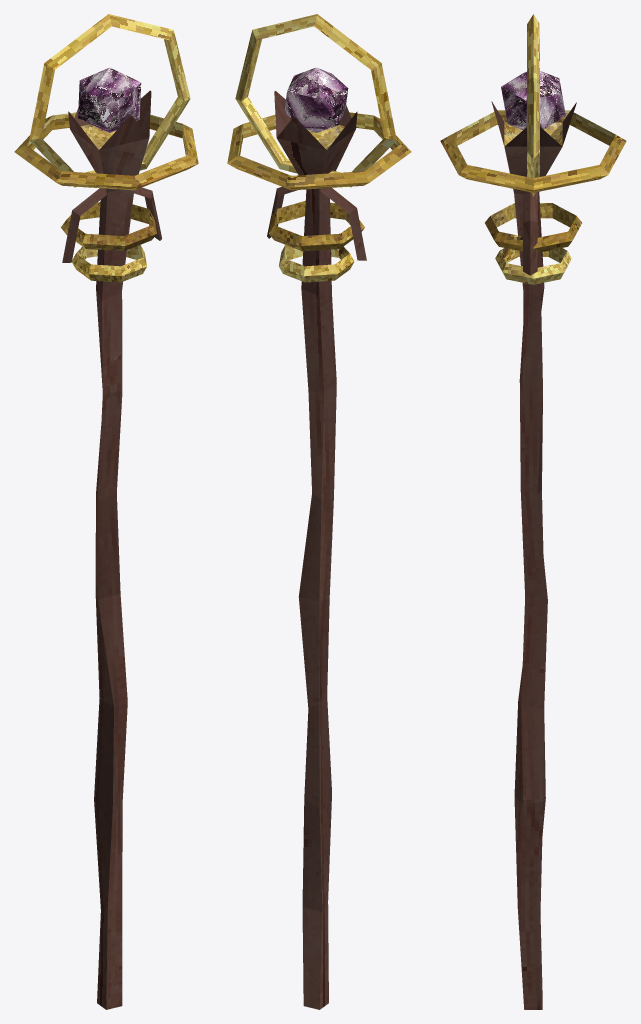
File: staff.glb
3 views of the same model, side by side, from view 1: azimuth 30°, elevation 25°; view 2: azimuth 150°, elevation 25°; view 3: azimuth 270°, elevation 25° (orthographic).
Parts seen in each view (by area): view 1: staff; view 2: staff; view 3: staff.
Part boxes in pixels (<box>): staff: <box>14,14,198,1009</box>; staff: <box>227,14,411,1009</box>; staff: <box>440,14,626,1009</box>.
Size of the model in its own units: 0.3701 by 2.15 by 0.366.
Materials: 1 (1 with a texture image).
